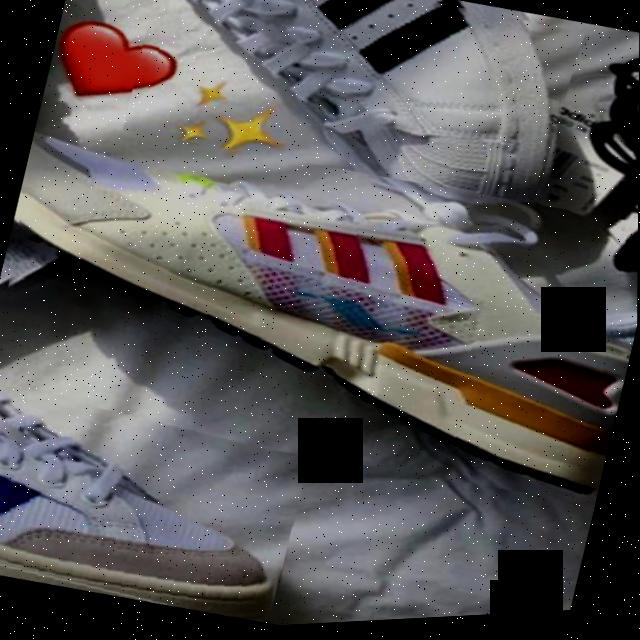shoe: (0, 91, 639, 540), (119, 0, 587, 242), (0, 364, 315, 638)
